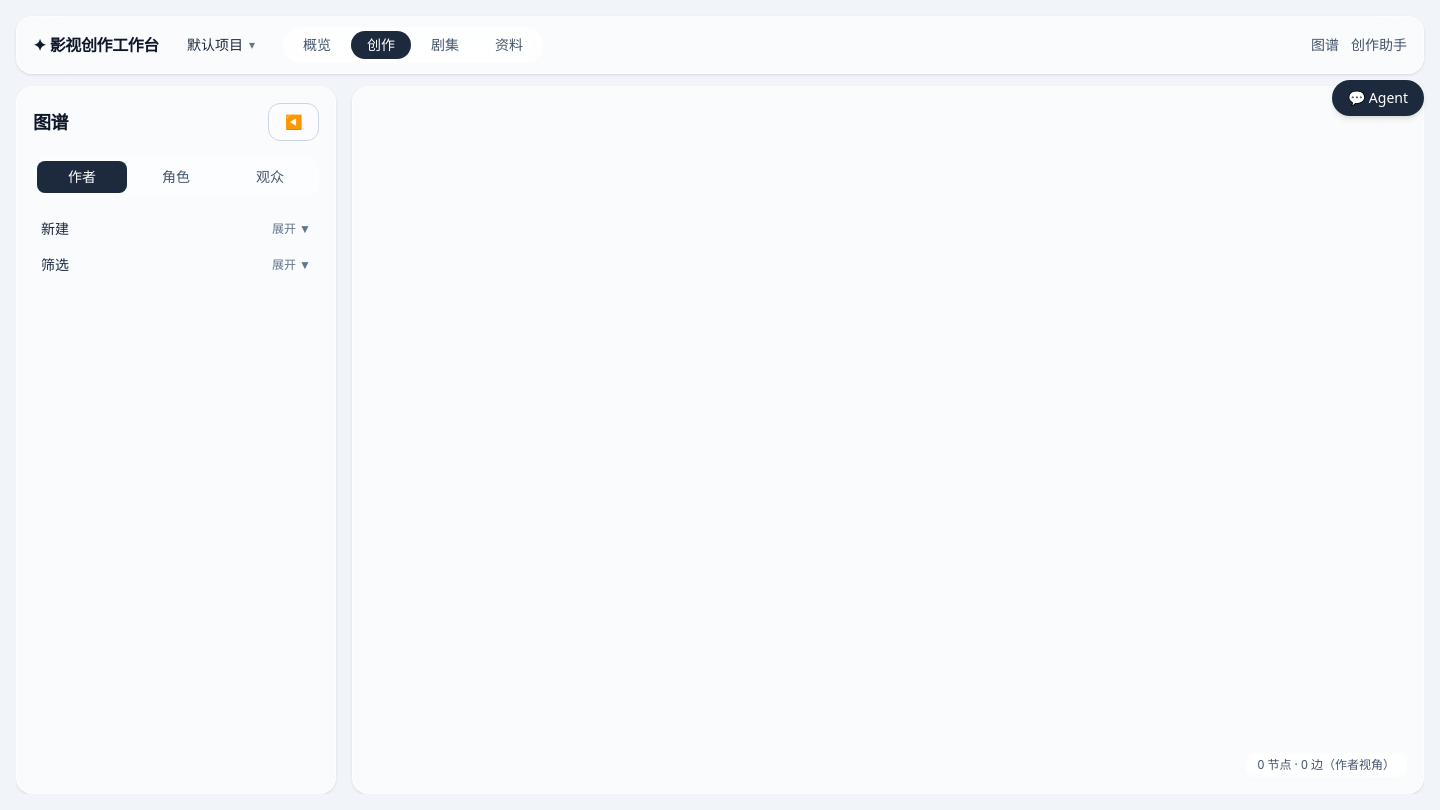
Test: F12 两级钻取（FI3）+ IF1 页签往返 › IF1: 默认图谱页；切资产页再切回图谱（往返，操作栏仍在）
expect the element with test id "sidebar" is shown: met, box x1=16 y1=86 x2=336 y2=794
expect the text "0 节点 · 0 边（作者视角）" is shown: met, box x1=1246 y1=753 x2=1407 y2=777
Click the link with test id "tab-assets" at coordinates (509, 44), box x1=495 y1=35 x2=523 y2=54
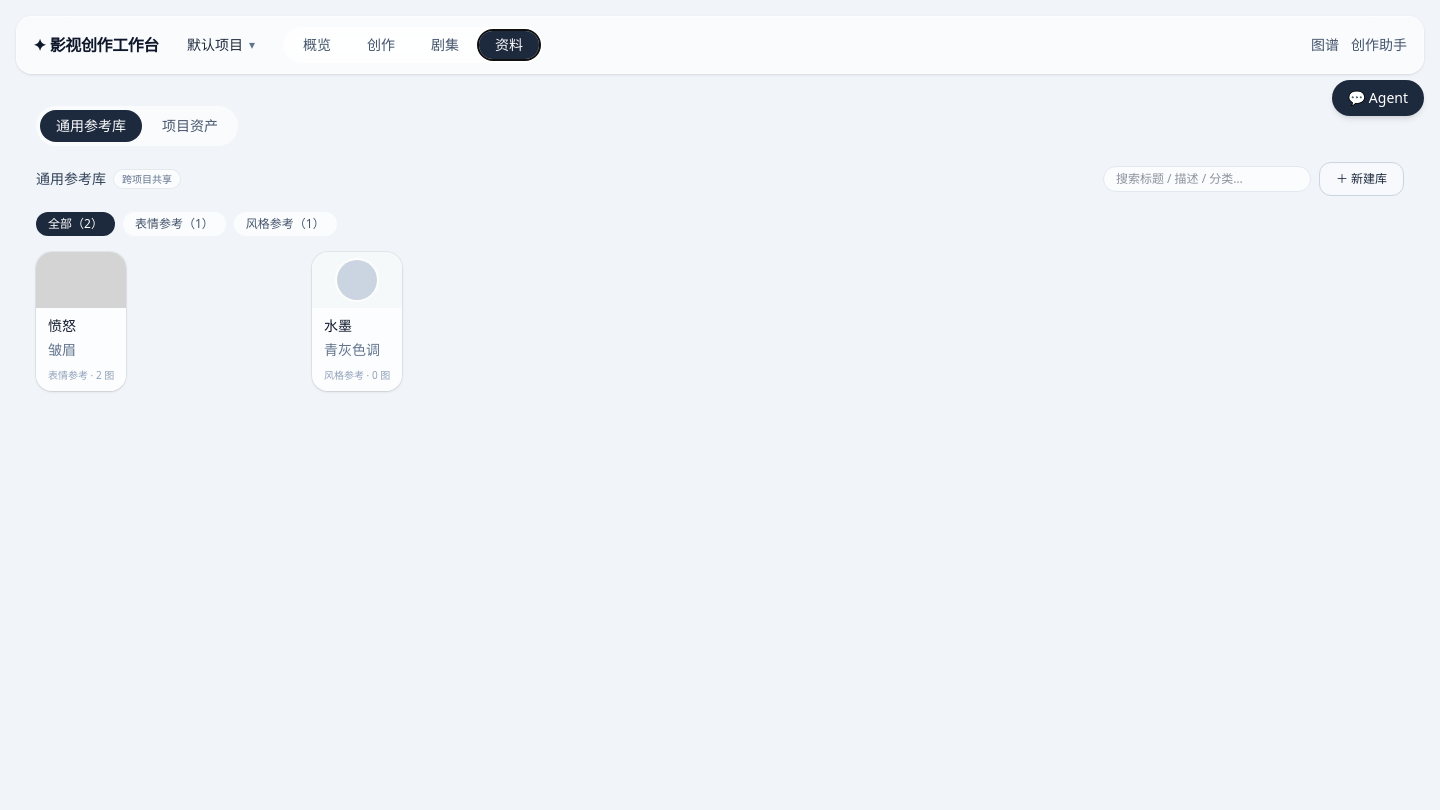
expect the link with test id "section-general" is shown: met, box x1=40 y1=110 x2=142 y2=142
expect the button with test id "create-asset" is shown: met, box x1=1319 y1=162 x2=1404 y2=196
Click the link with test id "section-project" at coordinates (190, 126), box x1=162 y1=116 x2=218 y2=135
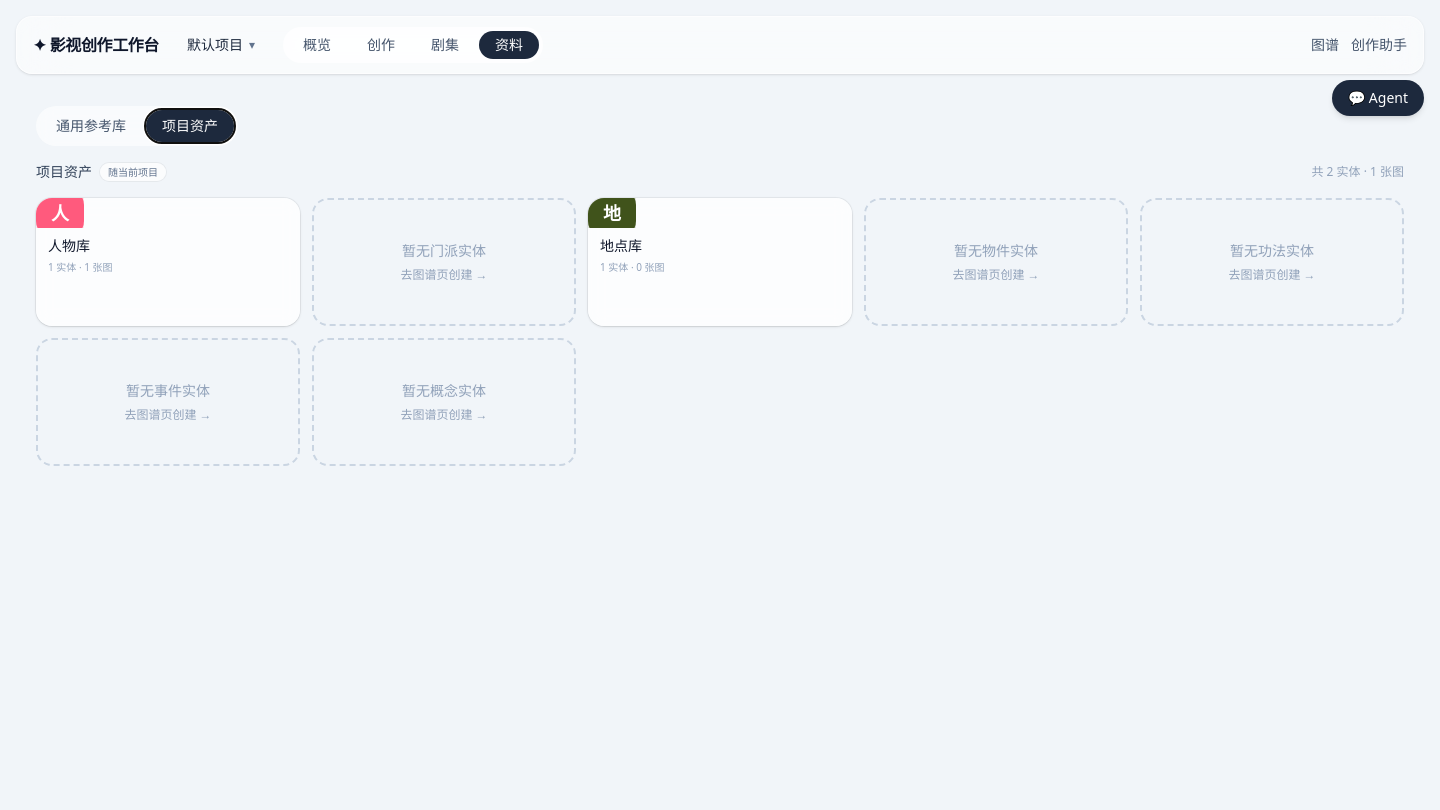
expect the element with test id "asset-type-wall" is shown: met, box x1=36 y1=162 x2=1404 y2=466
Click the link with test id "tab-graph" at coordinates (1325, 45), box x1=1311 y1=35 x2=1339 y2=55
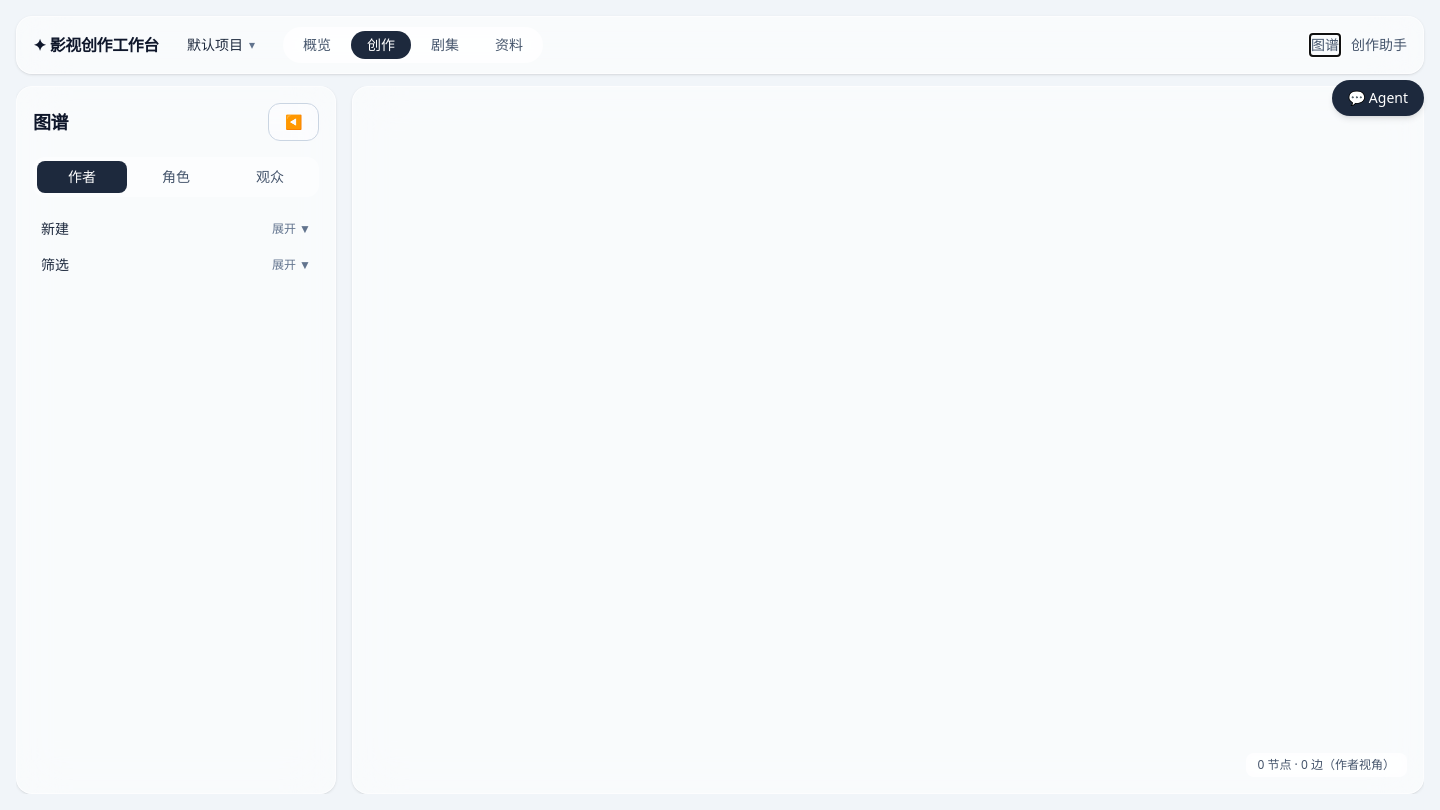
expect the element with test id "sidebar" is shown: met, box x1=16 y1=86 x2=336 y2=794
expect the link with test id "section-general" is gone: met
